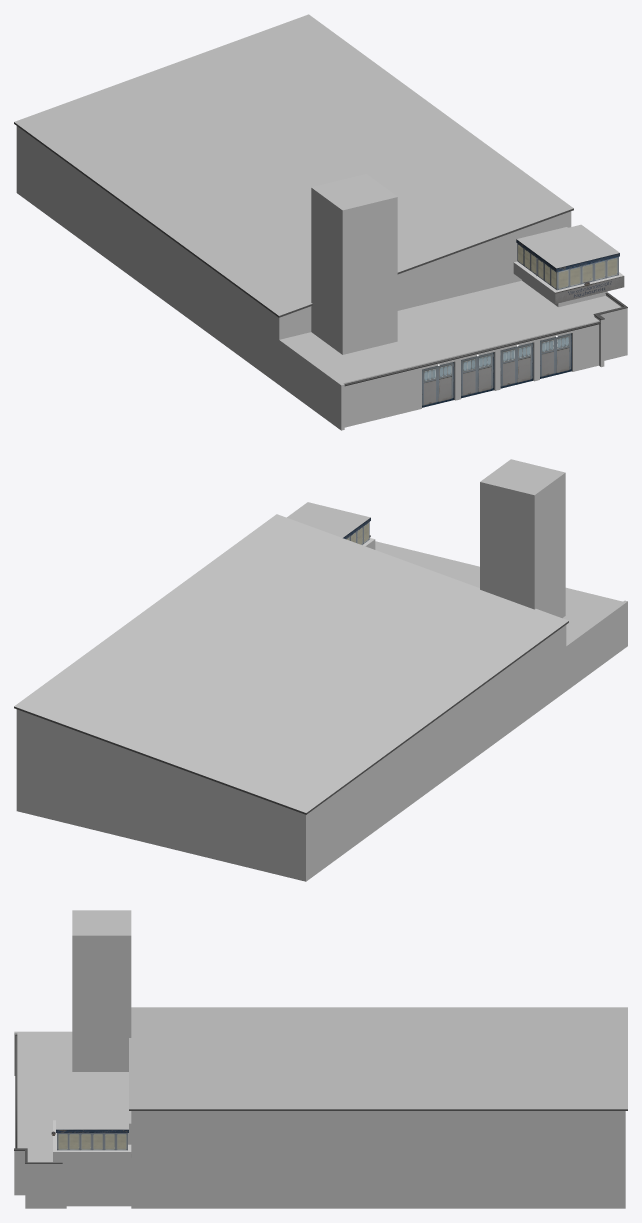
The model's file is edap-main-building_LOD00.gltf.
3 views of the same model, one above another, from view 1: azimuth 30°, elevation 25°; view 2: azimuth 150°, elevation 25°; view 3: azimuth 270°, elevation 25° (orthographic). The views are drawn at different scales.
Visible parts, largest first — view 1: body, Fallschirmtrockenturm, Tower, drainage, drainage rim; view 2: body, Fallschirmtrockenturm, Tower; view 3: body, Fallschirmtrockenturm, Tower.
Boxes of the visible parts, x1,y1,x2,y2 form: body: [14, 14, 627, 430]; Fallschirmtrockenturm: [311, 174, 397, 354]; Tower: [513, 224, 624, 305]; drainage: [344, 322, 599, 386]; drainage rim: [344, 322, 600, 385]; body: [14, 514, 627, 881]; Fallschirmtrockenturm: [480, 459, 565, 618]; Tower: [287, 502, 375, 549]; body: [14, 1007, 627, 1208]; Fallschirmtrockenturm: [72, 910, 131, 1071]; Tower: [53, 1100, 131, 1163].
Size of the model in its own units: 28.2 by 16.77 by 52.23.
